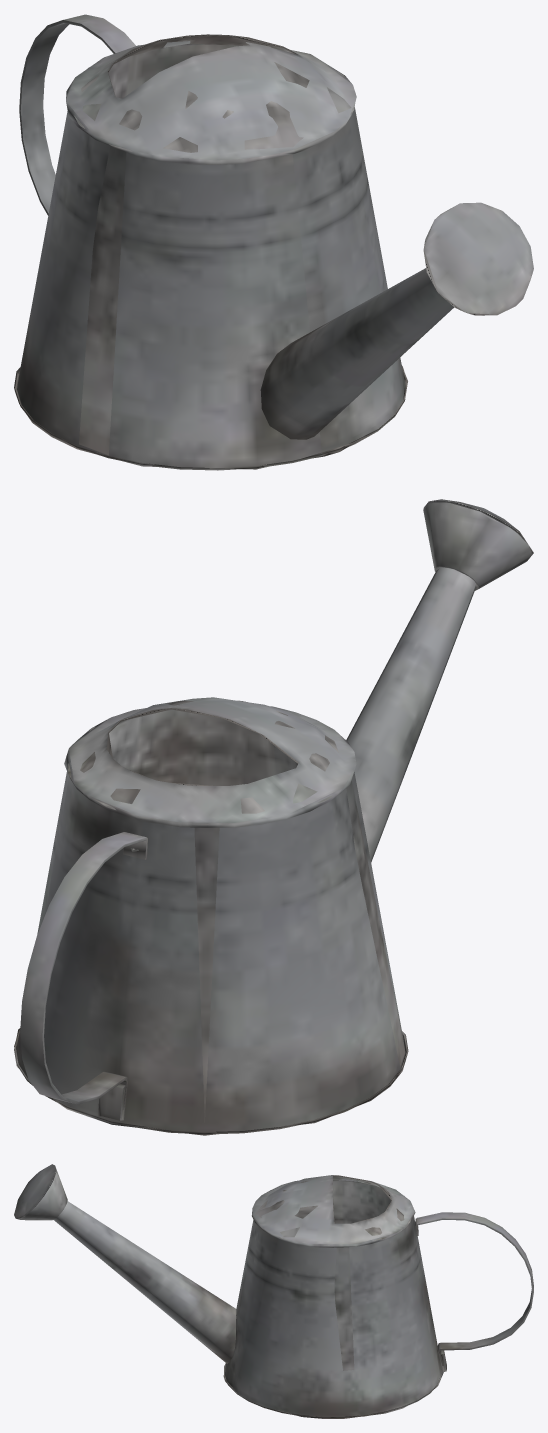
The model's file is wateringCan.glb.
3 views of the same model, one above another, from view 1: azimuth 30°, elevation 25°; view 2: azimuth 150°, elevation 25°; view 3: azimuth 270°, elevation 25° (orthographic). The views are drawn at different scales.
Visible parts, largest first — view 1: watering_can_metal_01; view 2: watering_can_metal_01; view 3: watering_can_metal_01.
Boxes of the visible parts, bbox=[...] form: watering_can_metal_01: bbox=[14, 14, 533, 470]; watering_can_metal_01: bbox=[14, 499, 533, 1135]; watering_can_metal_01: bbox=[14, 1164, 533, 1418].
Bounding box in the file's own units: 0.1905 × 0.1965 × 0.4521.
1 material, 1 textured.
